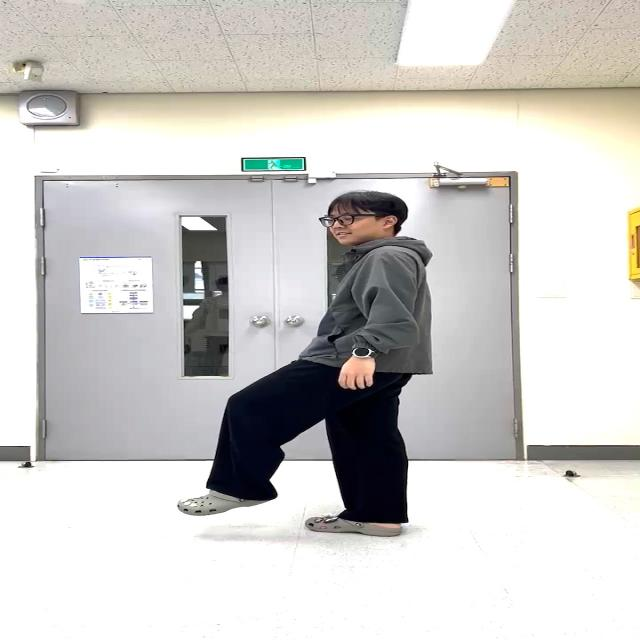leg: (176, 368, 351, 524)
